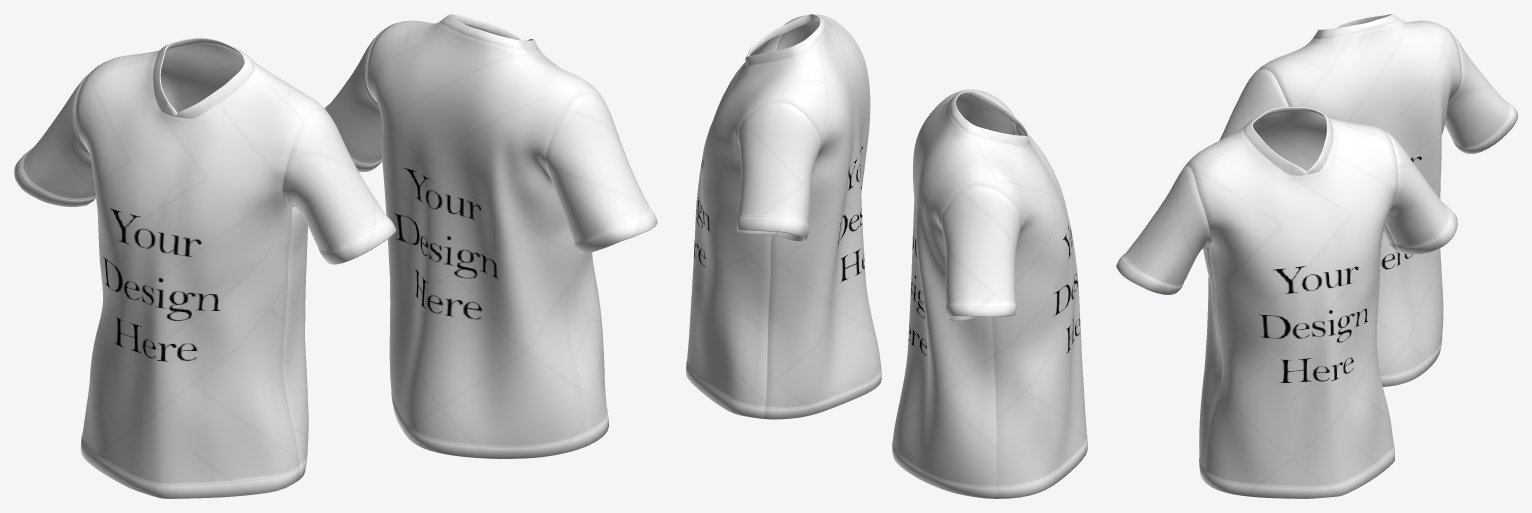
Rendered from T-shirt A-2.glb.
The picture shows the model from 3 angles, left to right: view 1: azimuth 30°, elevation 25°; view 2: azimuth 150°, elevation 25°; view 3: azimuth 270°, elevation 25°; orthographic projection. The views are drawn at different scales.
Visible parts, largest first — view 1: T-shirt procedural texture, T-shirt procedural texture.001; view 2: T-shirt procedural texture.001, T-shirt procedural texture; view 3: T-shirt procedural texture.001, T-shirt procedural texture.
Part boxes in pixels (x1,y1,x2,y2): T-shirt procedural texture: [14, 37, 396, 498]; T-shirt procedural texture.001: [324, 14, 657, 458]; T-shirt procedural texture.001: [686, 14, 881, 419]; T-shirt procedural texture: [892, 89, 1087, 498]; T-shirt procedural texture.001: [1116, 107, 1457, 498]; T-shirt procedural texture: [1219, 14, 1517, 386].
Bounding box in the file's own units: 0.8552 × 0.7167 × 0.7601.
Materials: 1 (1 with a texture image).
